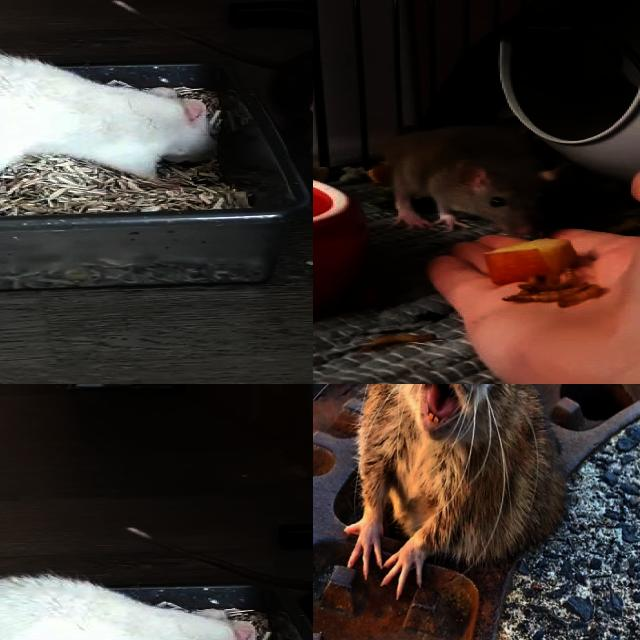rat: (334, 384, 575, 602), (0, 57, 221, 200), (384, 122, 555, 238), (0, 576, 267, 640), (268, 45, 313, 198)
